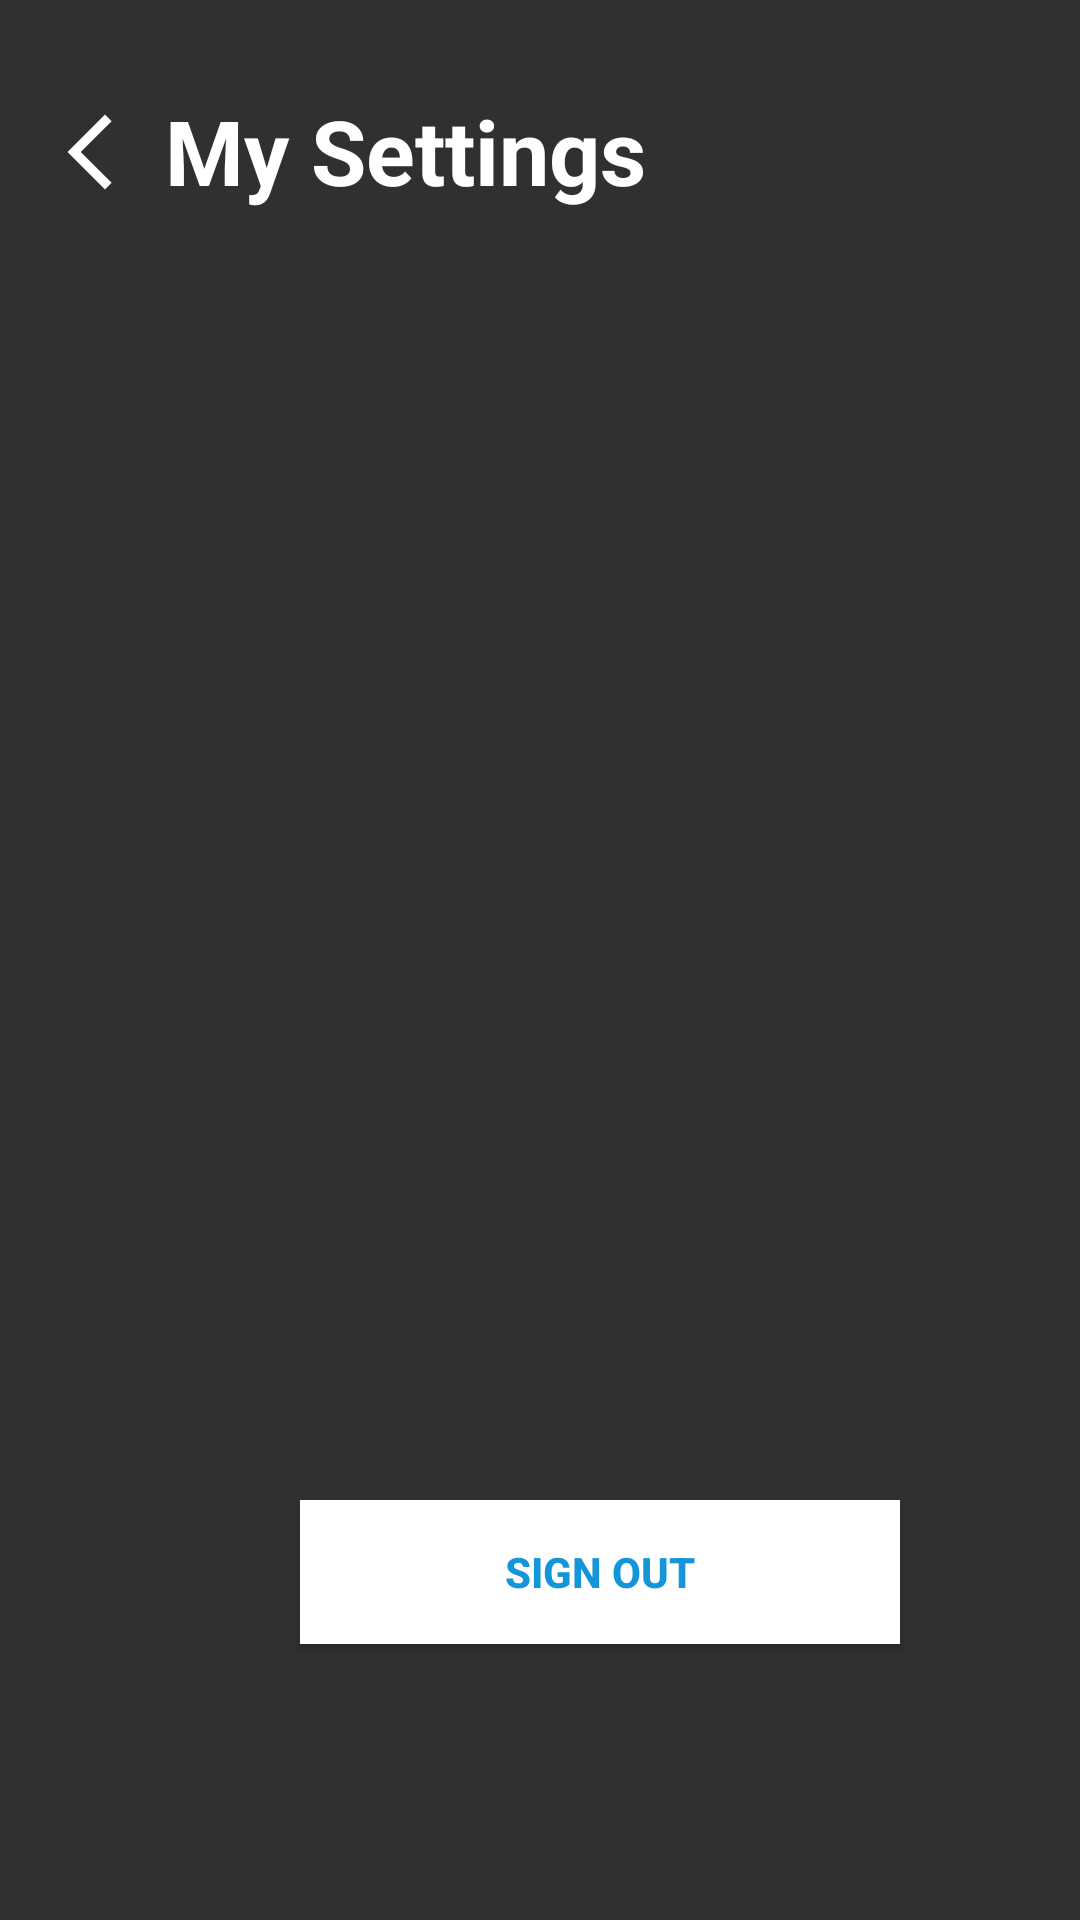

Where to tap for icons on this 1080px x 1920px app screen, as [x,y]:
arrow back: [89,152]
